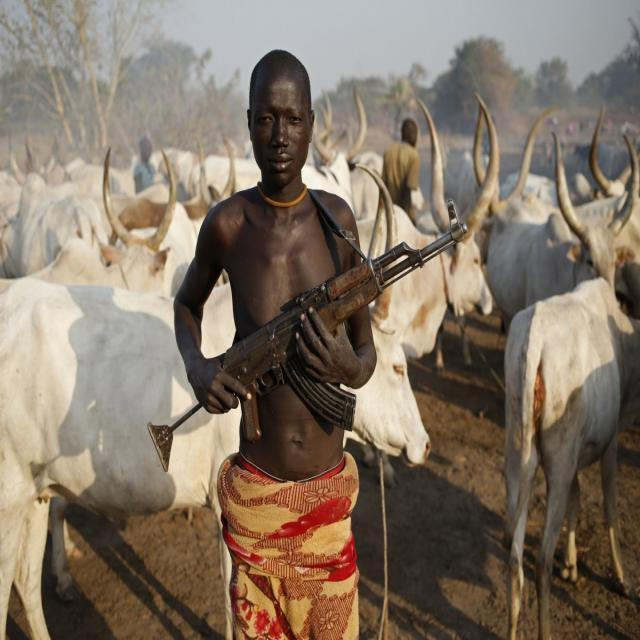ak: (150, 197, 468, 477)
